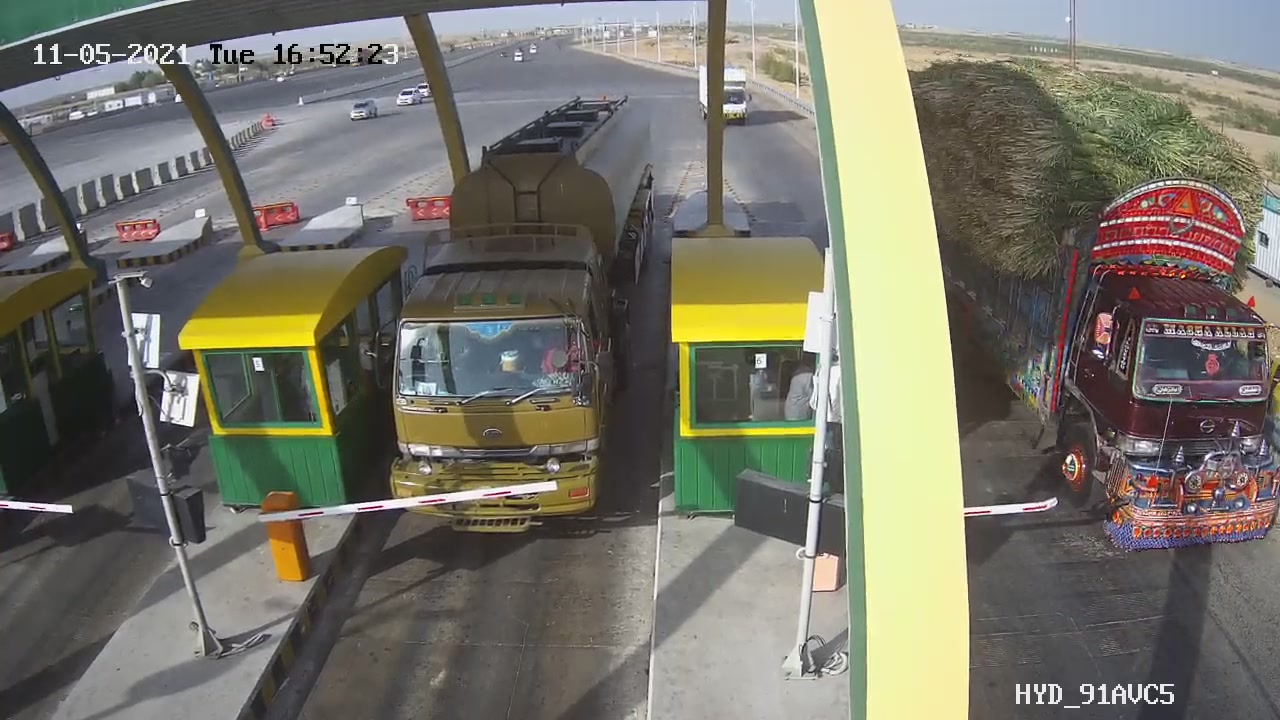F6: (374, 76, 665, 555)
